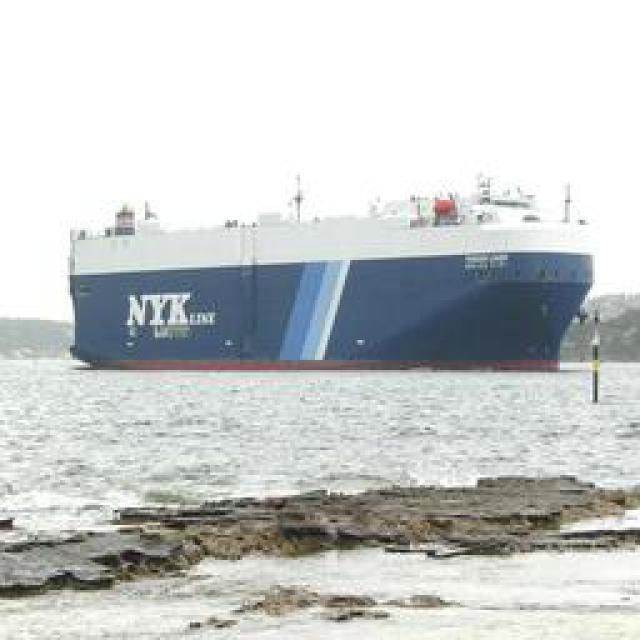Ship: (73, 194, 591, 369)
